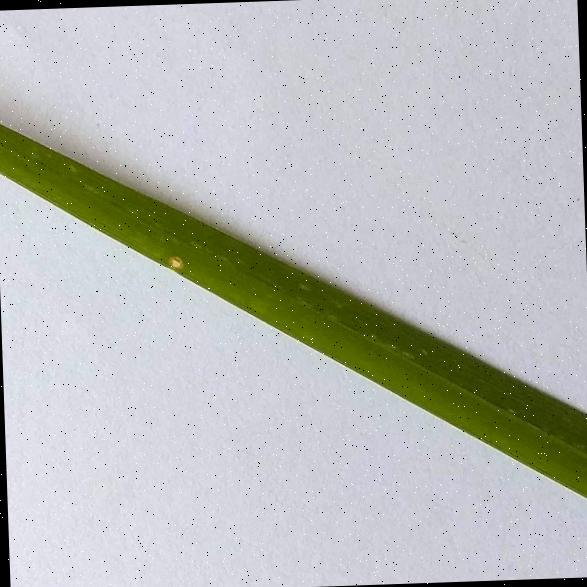Leaf_smut: (164, 241, 184, 278)
